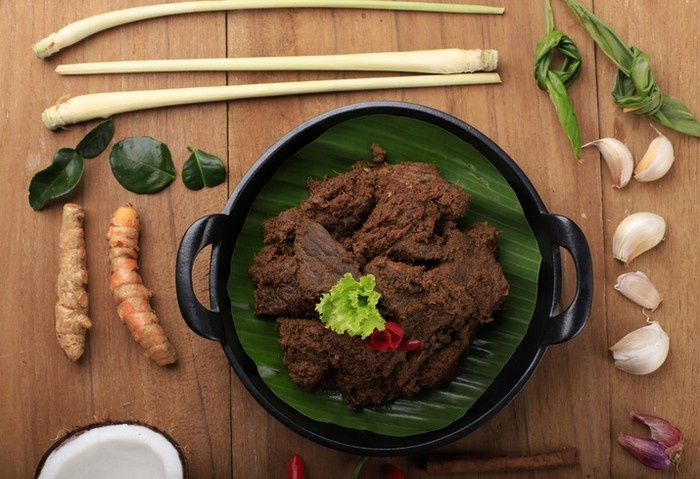rendang: (248, 145, 509, 411)
